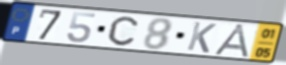5: (66, 11, 98, 44)
7: (36, 8, 65, 41)
8: (142, 16, 175, 52)
A: (212, 23, 253, 59)
C: (107, 15, 140, 47)
K: (185, 20, 219, 54)
